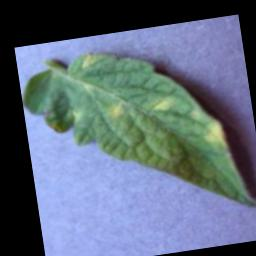Leaf_Mold: (199, 115, 228, 149), (149, 96, 175, 114), (107, 100, 128, 119), (79, 52, 99, 68)
